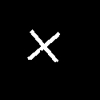single_crochet: (28, 30, 59, 61)
